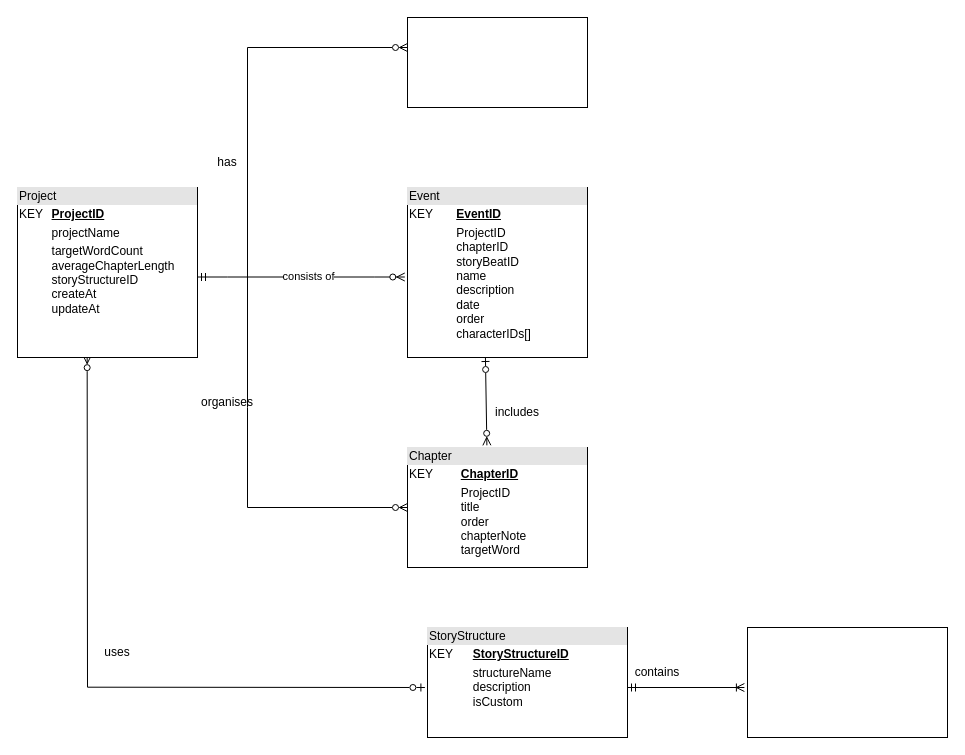
This 965x755 diagram has some shape labels left out. Here are the shapes that lost their labels. From the top down, the centre of each, then its label:
At point 497,62: "Character KEY CharacterID ProjectID name dateOfBirth".
At point 847,682: "StoryBeats KEY StoryBeatsID storyStructureID name description o rder percentage".
